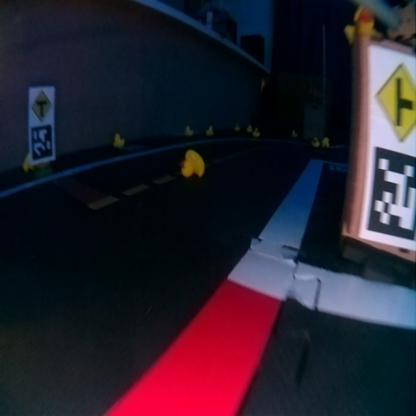Duckie: (180, 150, 204, 176), (184, 125, 192, 135), (204, 125, 212, 134), (321, 137, 329, 146), (311, 136, 318, 146), (253, 127, 258, 136), (234, 122, 240, 128)
Intersection sign: (374, 58, 415, 140), (30, 88, 53, 122)
QR code: (365, 144, 414, 235), (31, 125, 52, 160)
